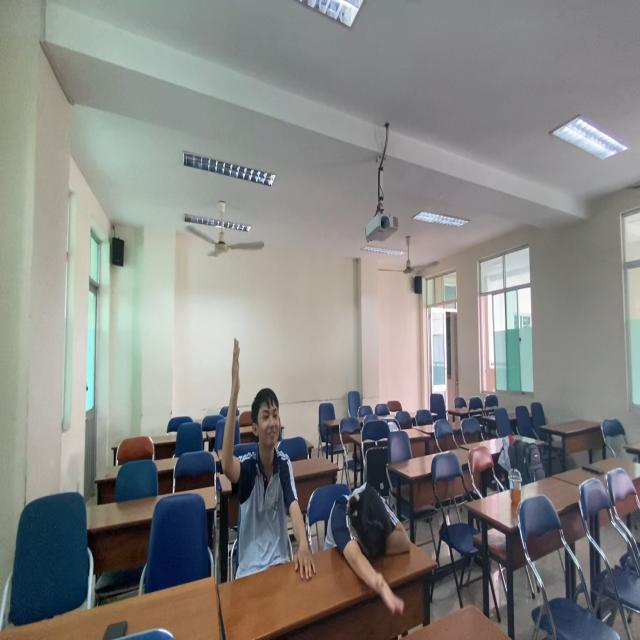raise_hand: (222, 326, 314, 581)
sleep: (327, 482, 413, 586)
